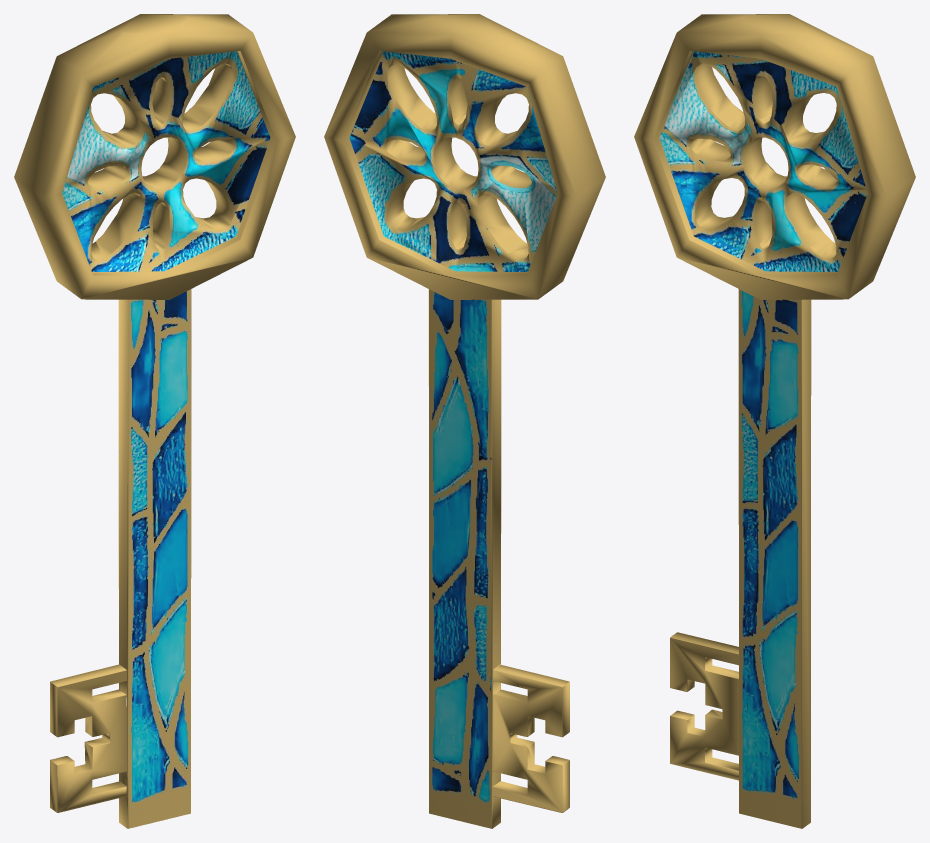
Rendered from key01Compressed.glb.
3 views of the same model, side by side, from view 1: azimuth 30°, elevation 25°; view 2: azimuth 150°, elevation 25°; view 3: azimuth 330°, elevation 25° (orthographic).
Parts seen in each view (by area): view 1: Mesh_0.005; view 2: Mesh_0.005; view 3: Mesh_0.005.
Boxes of the visible parts, box(x1,y1,x2,y2) form: Mesh_0.005: box(14, 14, 295, 828); Mesh_0.005: box(324, 14, 605, 828); Mesh_0.005: box(634, 14, 915, 828).
Size of the model in its own units: 0.25 by 0.75 by 0.05.
1 material, 1 textured.
